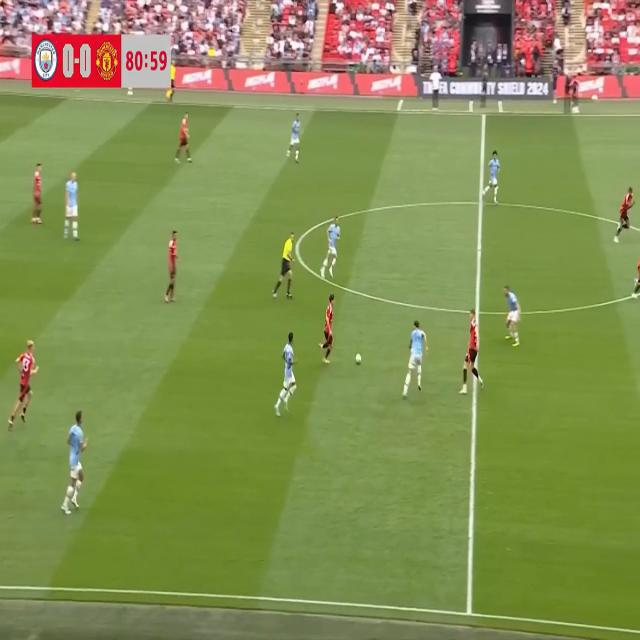ball: (352, 351, 366, 371)
players: (5, 340, 43, 438), (61, 410, 90, 517), (268, 332, 299, 424), (315, 288, 348, 369), (458, 302, 483, 399), (318, 205, 343, 286), (172, 102, 198, 172), (28, 152, 50, 234), (613, 181, 636, 259), (162, 227, 184, 308), (502, 282, 524, 352), (479, 145, 504, 202), (61, 177, 82, 244), (280, 106, 304, 164), (630, 246, 640, 308)
refree: (270, 225, 297, 305), (162, 48, 178, 111)
